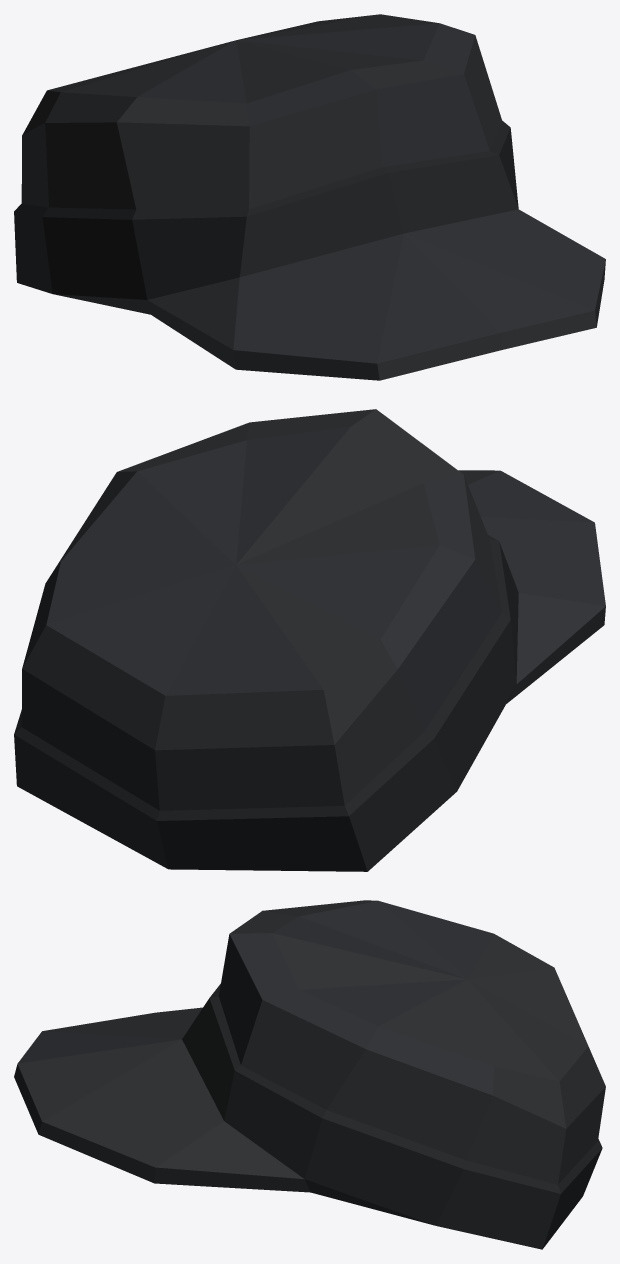
Rendered from SM_Chr_Attach_Hat_05.fbx.
3 views of the same model, one above another, from view 1: azimuth 30°, elevation 25°; view 2: azimuth 150°, elevation 25°; view 3: azimuth 270°, elevation 25° (orthographic). The views are drawn at different scales.
Parts seen in each view (by area): view 1: SM_Chr_Attach_Hat_05; view 2: SM_Chr_Attach_Hat_05; view 3: SM_Chr_Attach_Hat_05.
Part boxes in pixels (left/top/right/bottom): SM_Chr_Attach_Hat_05: left=14, top=14, right=605, bottom=380; SM_Chr_Attach_Hat_05: left=14, top=409, right=605, bottom=871; SM_Chr_Attach_Hat_05: left=14, top=900, right=605, bottom=1249.
Bounding box in the file's own units: 28.3 × 20.67 × 42.12.
